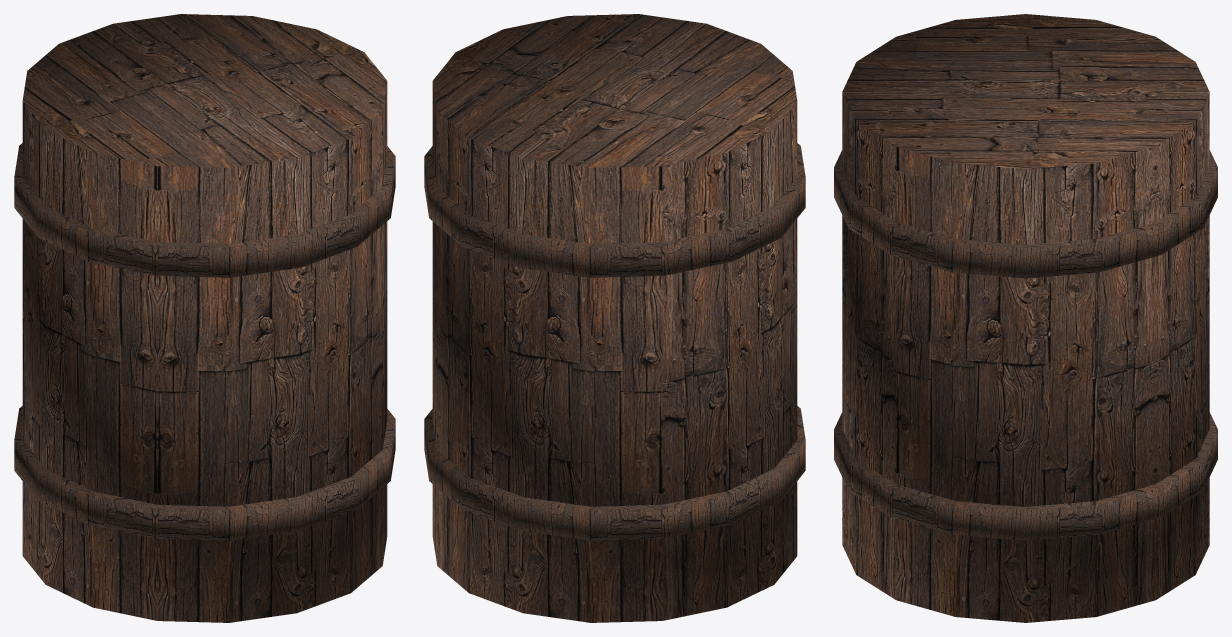
Rendered from prop_yard_quench.glb.
The picture shows the model from 3 angles, left to right: view 1: azimuth 30°, elevation 25°; view 2: azimuth 150°, elevation 25°; view 3: azimuth 270°, elevation 25°; orthographic projection.
Parts seen in each view (by area): view 1: barrel, hoop.001, hoop; view 2: barrel, hoop.001, hoop; view 3: barrel, hoop.001, hoop.
Part boxes in pixels (x1,y1,x2,y2): barrel: (22,14,387,622); hoop.001: (14,143,395,277); hoop: (14,406,395,540); barrel: (432,14,797,622); hoop.001: (424,143,805,277); hoop: (424,406,805,540); barrel: (842,14,1209,622); hoop.001: (834,150,1217,278); hoop: (834,412,1217,540).
Bounding box in the file's own units: 0.69 × 0.9 × 0.69.
3 materials, 2 textured.
